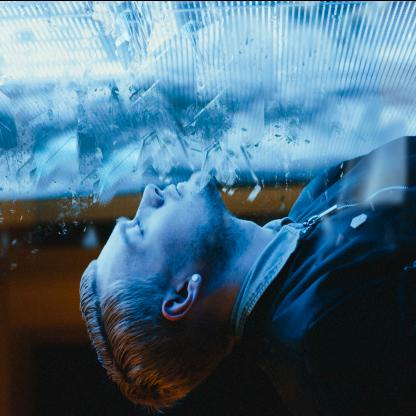Eye: (132, 221, 146, 236)
Mouth: (164, 180, 188, 200)
Nose: (137, 182, 165, 216)
